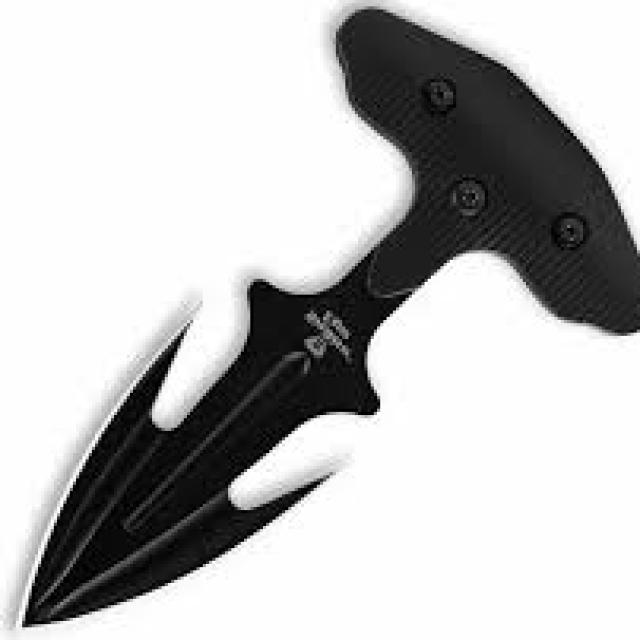Gun: (16, 9, 640, 634)
